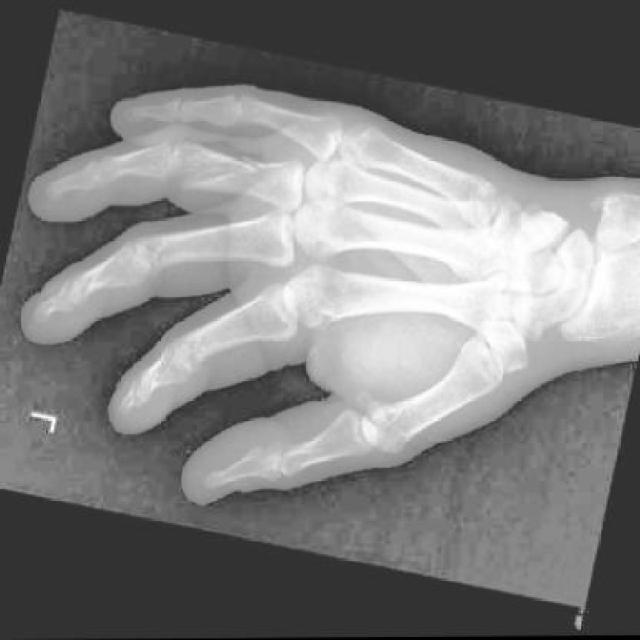Fracture: (174, 131, 302, 210)
